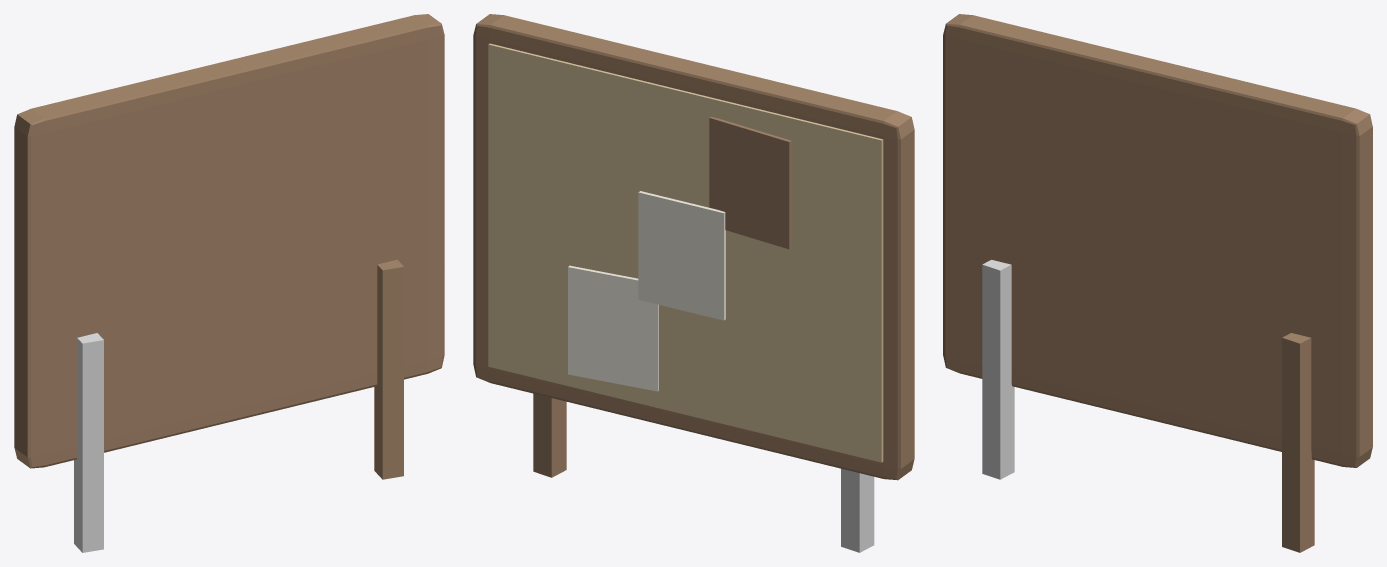
Rendered from quest_tafel_lod0.fbx.
The picture shows the model from 3 angles, left to right: view 1: azimuth 30°, elevation 25°; view 2: azimuth 150°, elevation 25°; view 3: azimuth 330°, elevation 25°; orthographic projection. The views are drawn at different scales.
Visible parts, largest first — view 1: Cube, Cube.002, Cube.003; view 2: Cube.001, Cube, Cube.005, Cube.006, Cube.004, Cube.002, Cube.003; view 3: Cube, Cube.002, Cube.003.
Boxes of the visible parts, left/top/right/bottom form: Cube: left=14, top=14, right=444, bottom=468; Cube.002: left=74, top=333, right=103, bottom=552; Cube.003: left=374, top=259, right=403, bottom=479; Cube.001: left=488, top=43, right=883, bottom=462; Cube: left=473, top=14, right=914, bottom=480; Cube.005: left=638, top=191, right=725, bottom=320; Cube.006: left=568, top=265, right=658, bottom=391; Cube.004: left=709, top=117, right=791, bottom=249; Cube.002: left=841, top=468, right=874, bottom=552; Cube.003: left=533, top=393, right=566, bottom=477; Cube: left=943, top=14, right=1372, bottom=467; Cube.002: left=982, top=260, right=1014, bottom=479; Cube.003: left=1282, top=333, right=1314, bottom=552.
Size of the model in its own units: 2.5 by 2.5 by 0.3232.
